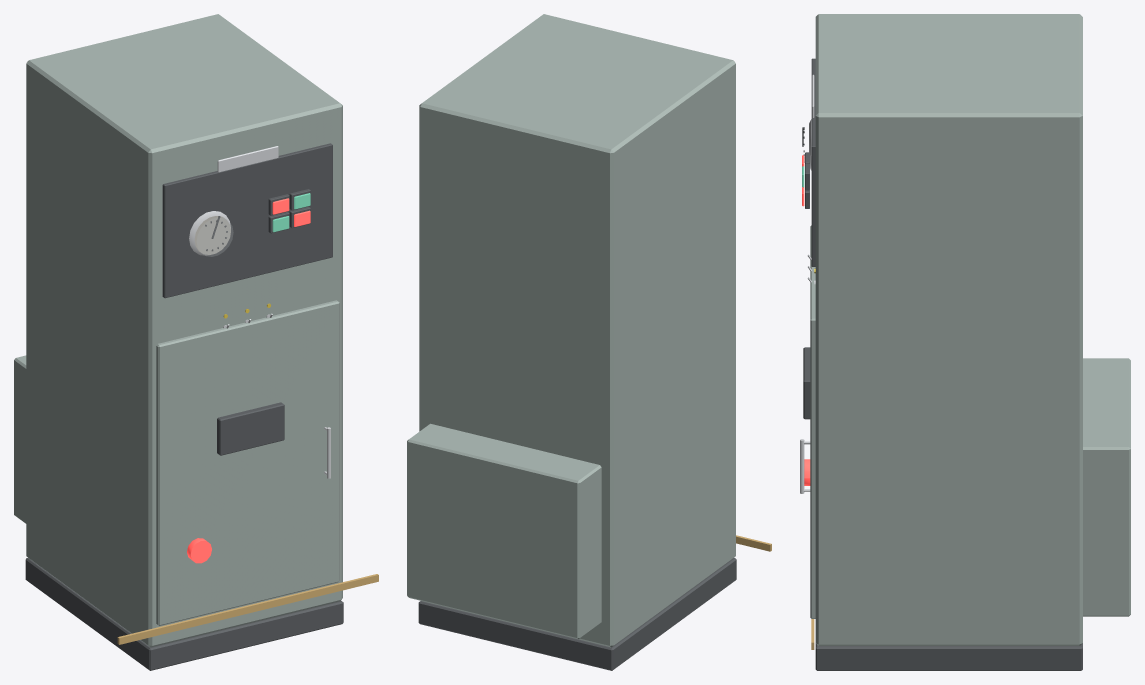
File: nuclear-power-station-and-control-room-switchgear-cubi-9ee76750__36942.glb
The picture shows the model from 3 angles, left to right: view 1: azimuth 30°, elevation 25°; view 2: azimuth 150°, elevation 25°; view 3: azimuth 270°, elevation 25°; orthographic projection. The views are drawn at different scales.
Visible parts, largest first — view 1: switchgear-cubicle, door/paint, door/dark; view 2: switchgear-cubicle; view 3: switchgear-cubicle, door/paint, door/dark.
Part boxes in pixels (bbox=[...]): switchgear-cubicle: bbox=[14, 14, 378, 670]; door/paint: bbox=[156, 300, 339, 625]; door/dark: bbox=[217, 402, 284, 455]; switchgear-cubicle: bbox=[407, 14, 771, 670]; switchgear-cubicle: bbox=[802, 14, 1130, 670]; door/paint: bbox=[810, 225, 815, 618]; door/dark: bbox=[803, 347, 810, 419].
Bounding box in the file's own units: 1.2 × 2.3 × 1.24.
